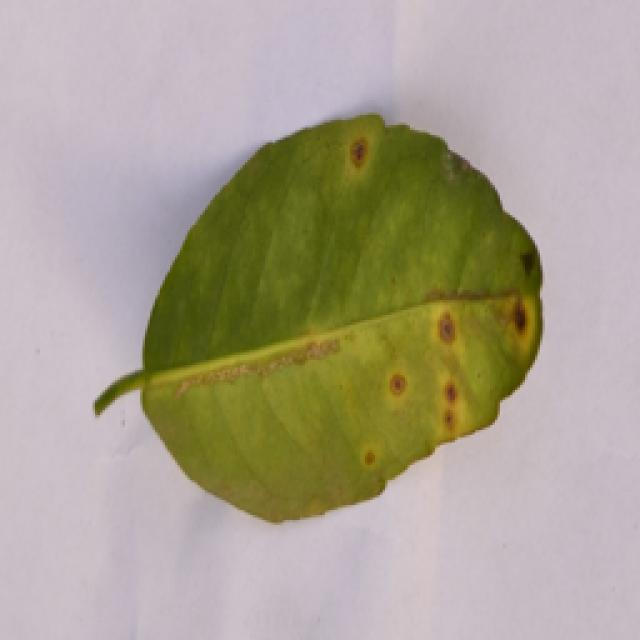canker: (169, 118, 544, 506)
